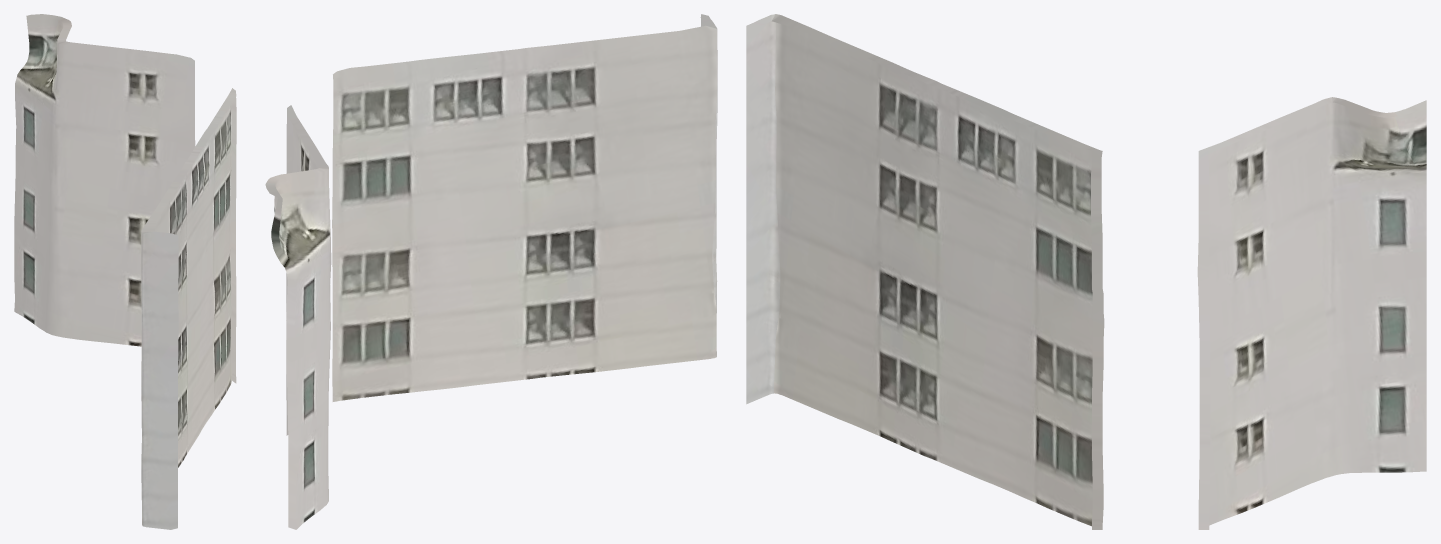
Rendered from z20-167782-405231-h1-yup-uvflip-v3-world.glb.
The picture shows the model from 3 angles, left to right: view 1: azimuth 30°, elevation 25°; view 2: azimuth 150°, elevation 25°; view 3: azimuth 270°, elevation 25°; orthographic projection. The views are drawn at different scales.
Size of the model in its own units: 14.44 by 18.64 by 30.32.
1 material, 1 textured.
